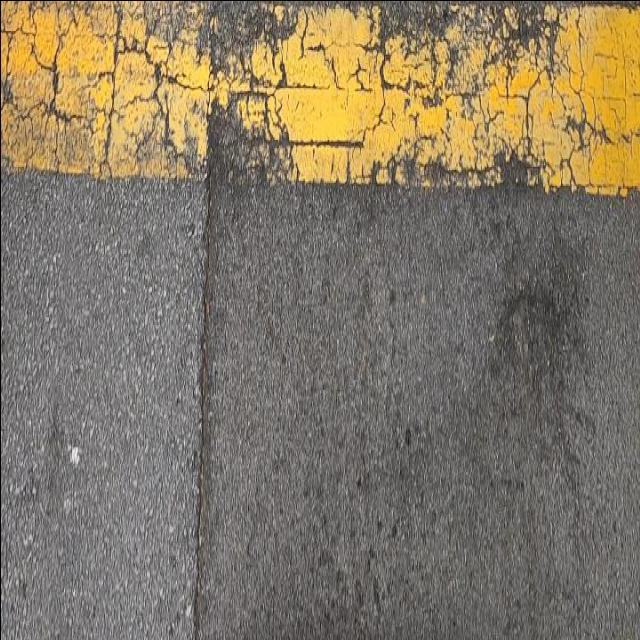cracks: (0, 0, 632, 187), (168, 133, 235, 621)
